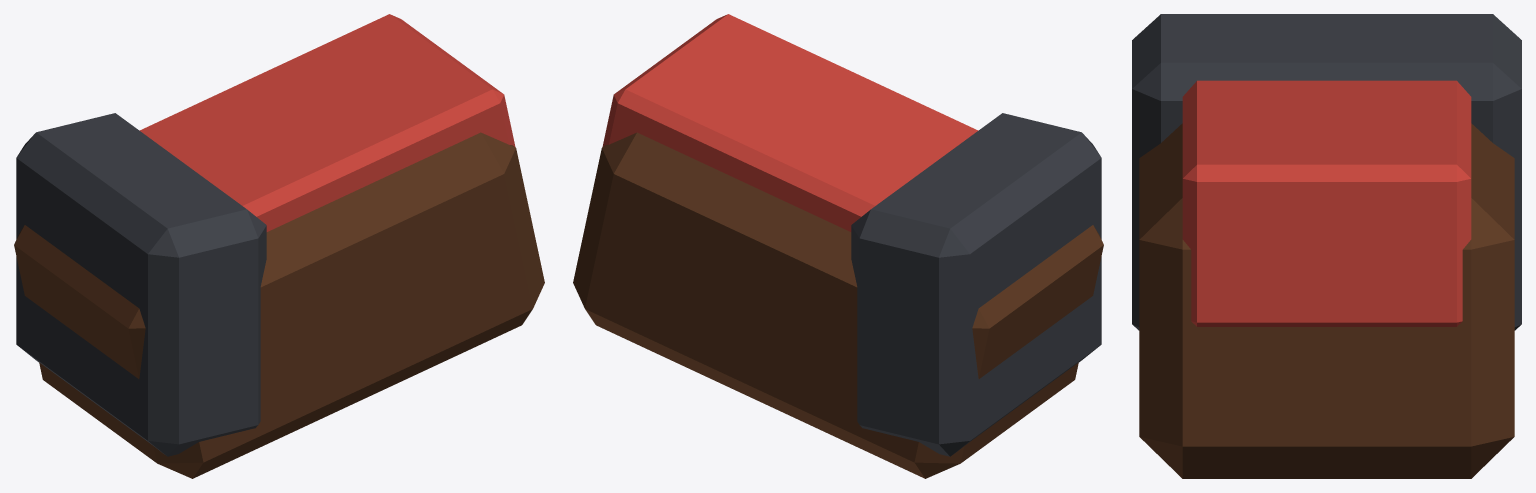
Rendered from card_shoe.glb.
The picture shows the model from 3 angles, left to right: view 1: azimuth 30°, elevation 25°; view 2: azimuth 150°, elevation 25°; view 3: azimuth 270°, elevation 25°; orthographic projection. The views are drawn at different scales.
Visible parts, largest first — view 1: card_shoe; view 2: card_shoe; view 3: card_shoe.
Boxes of the visible parts, bbox=[...] form: card_shoe: bbox=[14, 14, 544, 478]; card_shoe: bbox=[573, 14, 1103, 478]; card_shoe: bbox=[1132, 14, 1521, 478].
Size of the model in its own units: 0.2102 by 0.1499 by 0.135.
